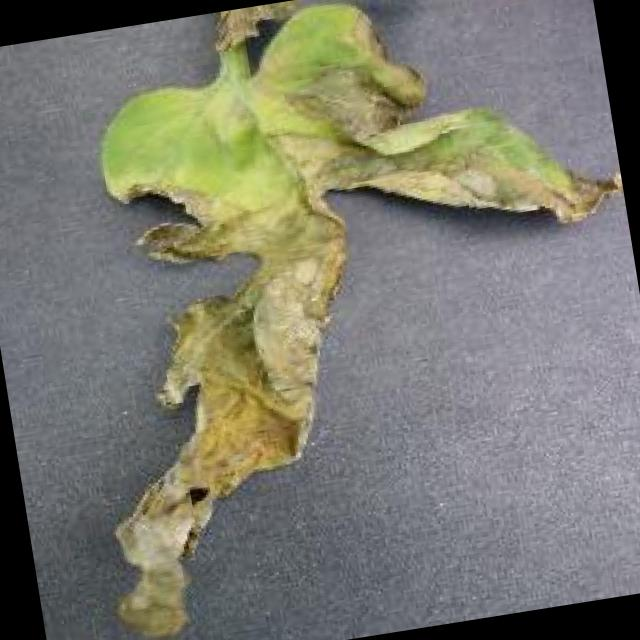Tomato_Late_Blight: (50, 62, 640, 632)
